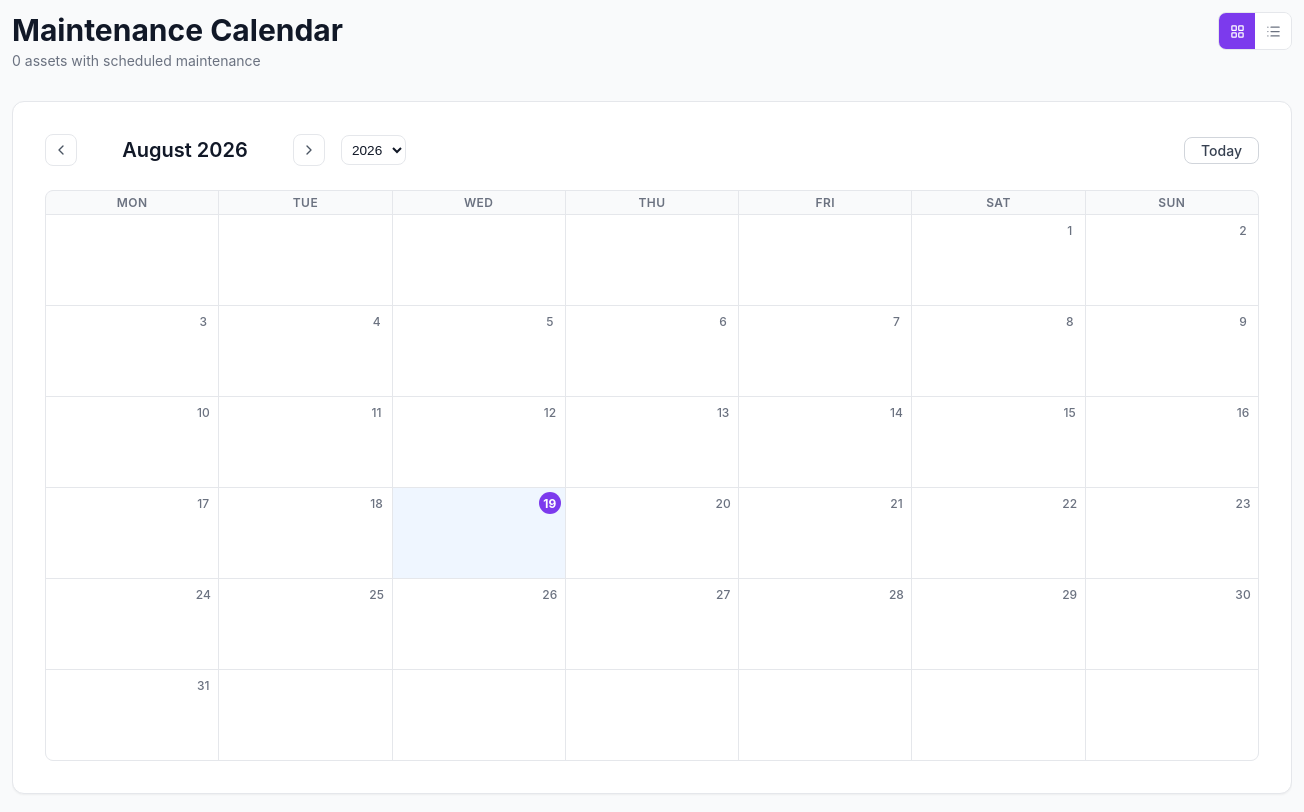
Test: Maintenance — view toggle › switching to list view changes heading to Work Orders
The image size is (1304, 812).
Expected: the button "Today" is shown, [1184, 136, 1259, 164]
Click the button named "Work orders list".
click(1273, 31)  # box [1255, 13, 1291, 49]
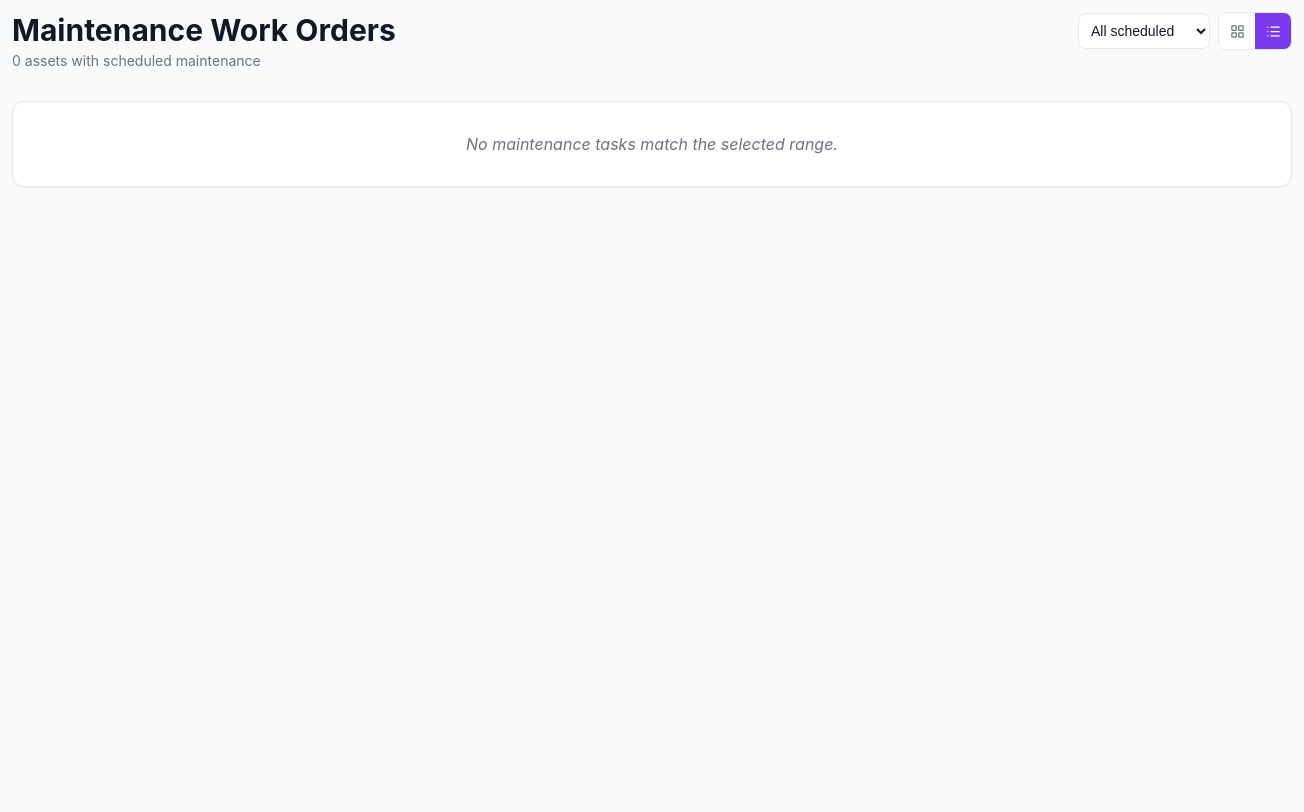
Expected: the heading "Maintenance Work Orders" is shown, [12, 12, 396, 48]
